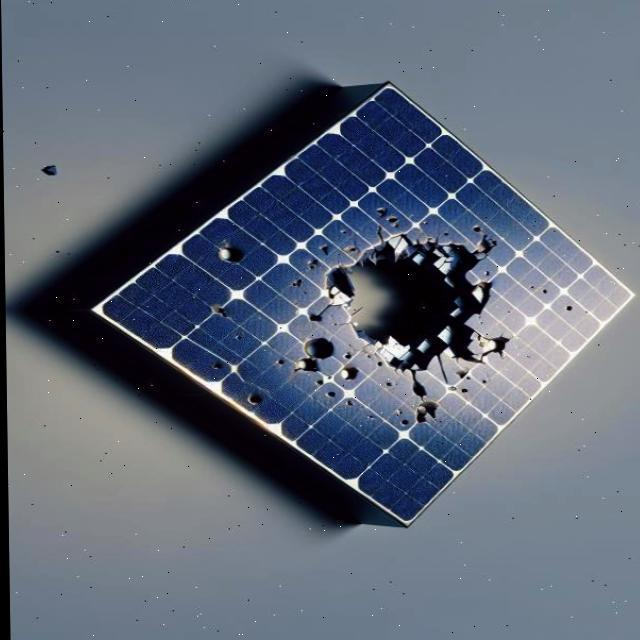Anomaly Solar Panel: (94, 85, 634, 523)
Structural Damage: (316, 214, 516, 381), (273, 230, 342, 300), (286, 326, 341, 383), (402, 368, 446, 428), (203, 235, 250, 274), (331, 357, 369, 388), (366, 202, 403, 227), (200, 301, 235, 323), (299, 307, 328, 326), (435, 358, 450, 388), (241, 390, 265, 408)
